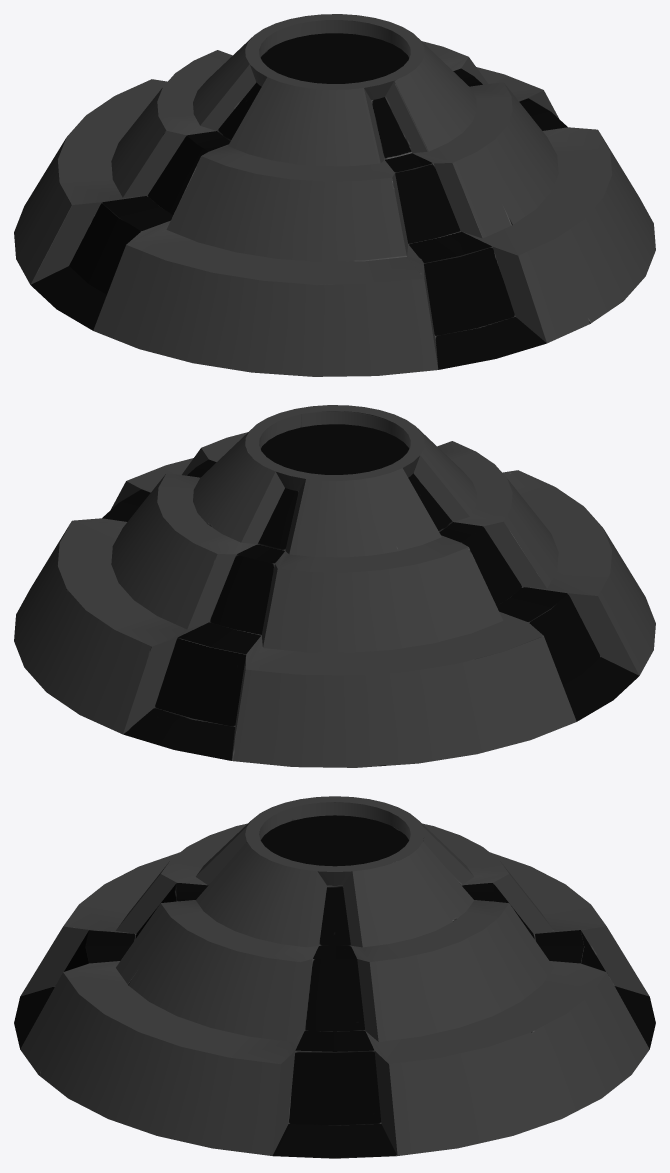
Rendered from Firewall_Lower.fbx.
3 renders of one model, top to bottom at view 1: azimuth 30°, elevation 25°; view 2: azimuth 150°, elevation 25°; view 3: azimuth 270°, elevation 25°, orthographic.
Visible parts, largest first — view 1: Firewall_LowerBody.001; view 2: Firewall_LowerBody.001; view 3: Firewall_LowerBody.001.
Boxes of the visible parts, x1,y1,x2,y2 form: Firewall_LowerBody.001: (14,14,655,376); Firewall_LowerBody.001: (14,405,655,767); Firewall_LowerBody.001: (14,796,655,1158).
Bounding box in the file's own units: 620 × 201 × 620.
